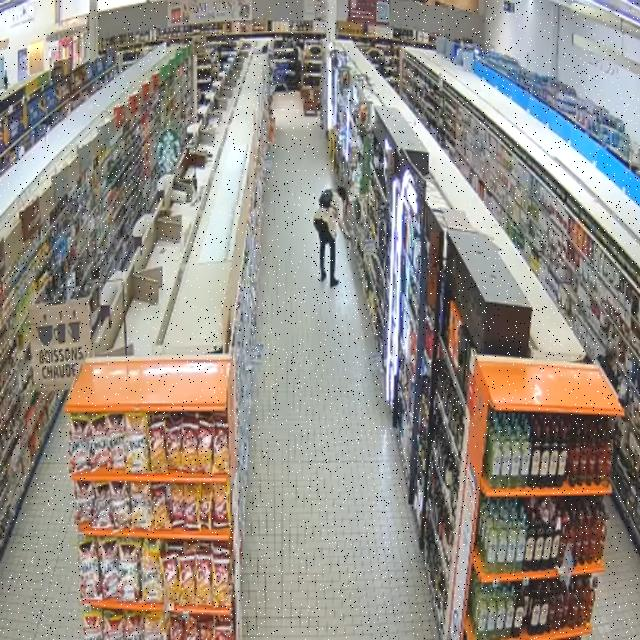article: (347, 240, 353, 262)
bags: (319, 189, 333, 209)
hands: (344, 233, 351, 241)
person: (314, 187, 347, 287)
